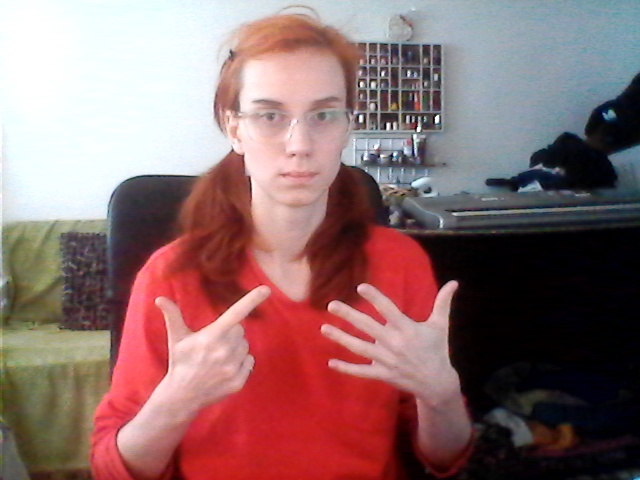sedem: (146, 272, 465, 402)
